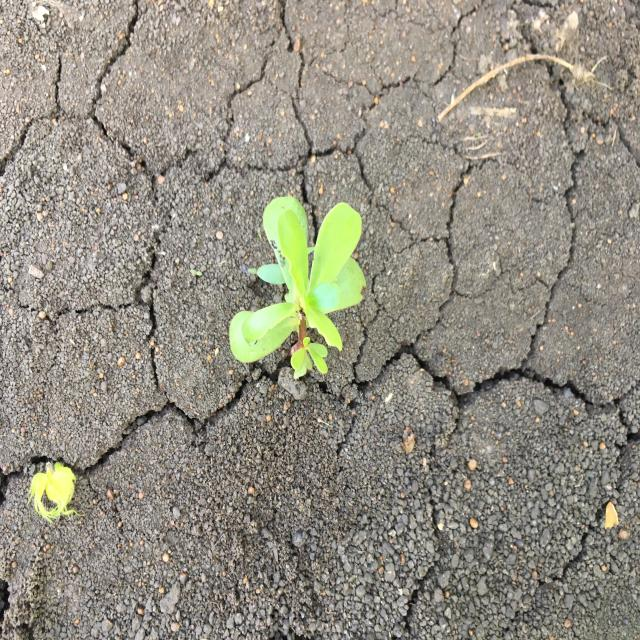Purslane: (228, 194, 369, 382)
